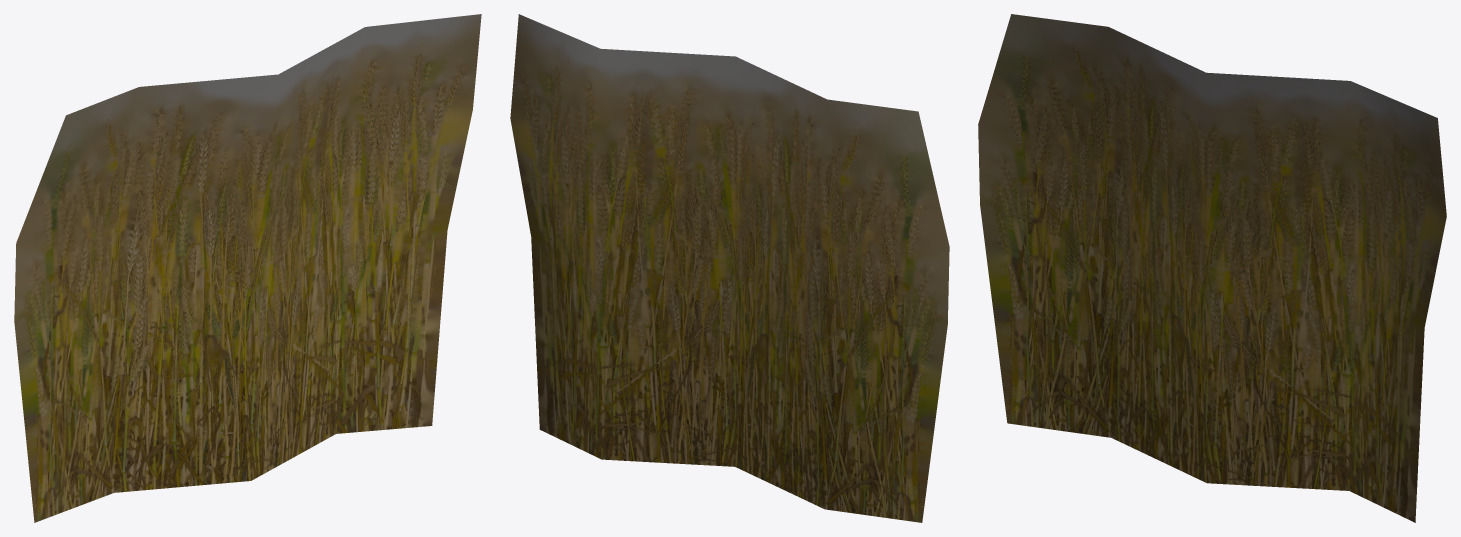
The model's file is Plant2.fbx.
3 views of the same model, side by side, from view 1: azimuth 30°, elevation 25°; view 2: azimuth 150°, elevation 25°; view 3: azimuth 330°, elevation 25° (orthographic). The views are drawn at different scales.
Visible parts, largest first — view 1: Grass_Small; view 2: Grass_Small; view 3: Grass_Small.
Part boxes in pixels (x1,y1,x2,y2): Grass_Small: (14, 14, 481, 522); Grass_Small: (510, 14, 949, 522); Grass_Small: (978, 14, 1446, 522).
Size of the model in its own units: 183 by 158 by 28.3.
